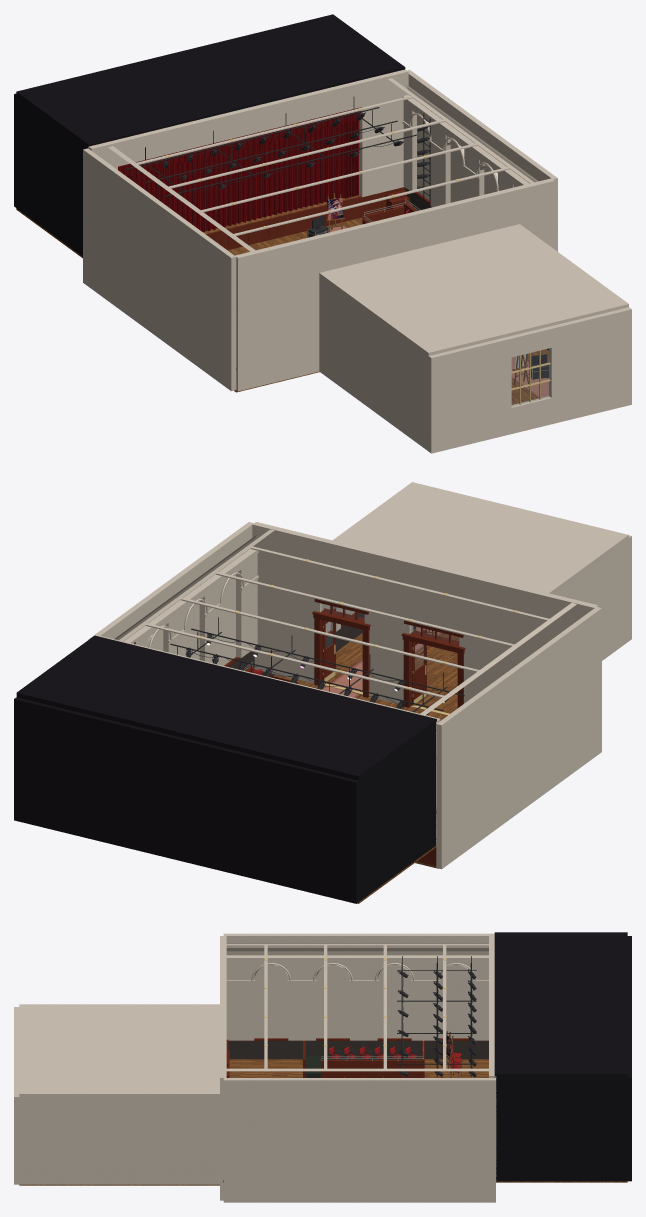
Rendered from flushing-theater.glb.
3 renders of one model, top to bottom at view 1: azimuth 30°, elevation 25°; view 2: azimuth 150°, elevation 25°; view 3: azimuth 270°, elevation 25°, orthographic. The views are drawn at different scales.
Visible parts, largest first — view 1: plaster_shell_and_foyer, curtain_main_R, curtain_main_L, woodwork_boxes_and_doors, lighting_grid_pipes, floors_and_stage_deck, curtain_valance, curtain_proscenium_R; view 2: plaster_shell_and_foyer, woodwork_boxes_and_doors, floors_and_stage_deck, lighting_grid_pipes; view 3: plaster_shell_and_foyer, woodwork_boxes_and_doors, floors_and_stage_deck, lighting_grid_pipes.
Boxes of the visible parts, left/top/right/bottom form: plaster_shell_and_foyer: left=14, top=14, right=631, bottom=453; curtain_main_R: left=236, top=123, right=358, bottom=223; curtain_main_L: left=130, top=150, right=236, bottom=232; woodwork_boxes_and_doors: left=205, top=187, right=548, bottom=369; lighting_grid_pipes: left=126, top=97, right=430, bottom=202; floors_and_stage_deck: left=16, top=195, right=548, bottom=404; curtain_valance: left=118, top=107, right=360, bottom=175; curtain_proscenium_R: left=343, top=112, right=359, bottom=198; plaster_shell_and_foyer: left=14, top=482, right=631, bottom=903; woodwork_boxes_and_doors: left=224, top=599, right=465, bottom=865; floors_and_stage_deck: left=254, top=627, right=459, bottom=903; lighting_grid_pipes: left=134, top=617, right=464, bottom=712; plaster_shell_and_foyer: left=14, top=932, right=631, bottom=1202; woodwork_boxes_and_doors: left=223, top=1038, right=488, bottom=1182; floors_and_stage_deck: left=19, top=1055, right=627, bottom=1185; lighting_grid_pipes: left=397, top=956, right=476, bottom=1076.
Size of the model in its own units: 16.3 by 6.67 by 29.05.
28 materials, 11 textured.
